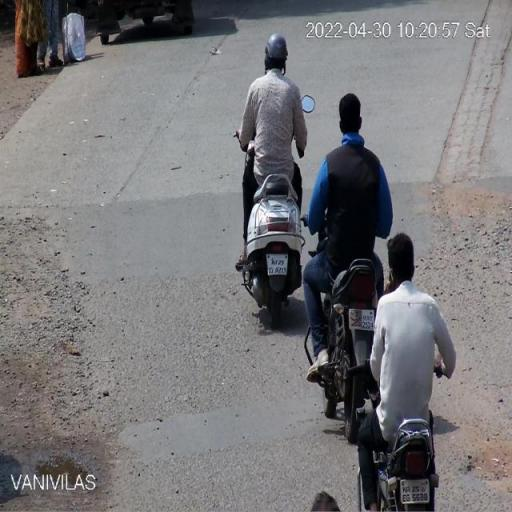numberplate: (401, 477, 431, 506)
using mobile: (383, 264, 398, 292)
